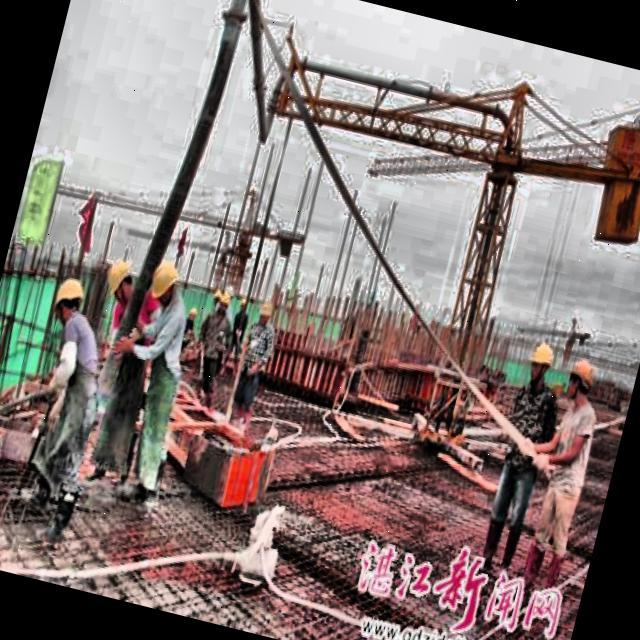helmet: (44, 266, 92, 330), (144, 255, 189, 310), (519, 335, 562, 391), (560, 351, 601, 408), (99, 252, 141, 304), (251, 295, 276, 329)
